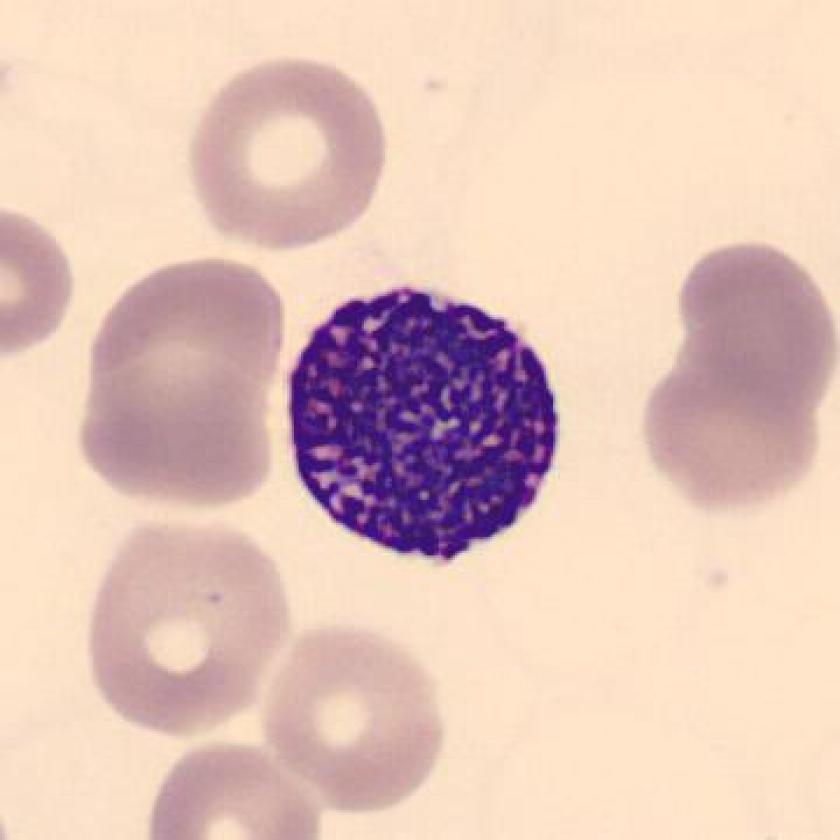basophil: (279, 277, 580, 587)
